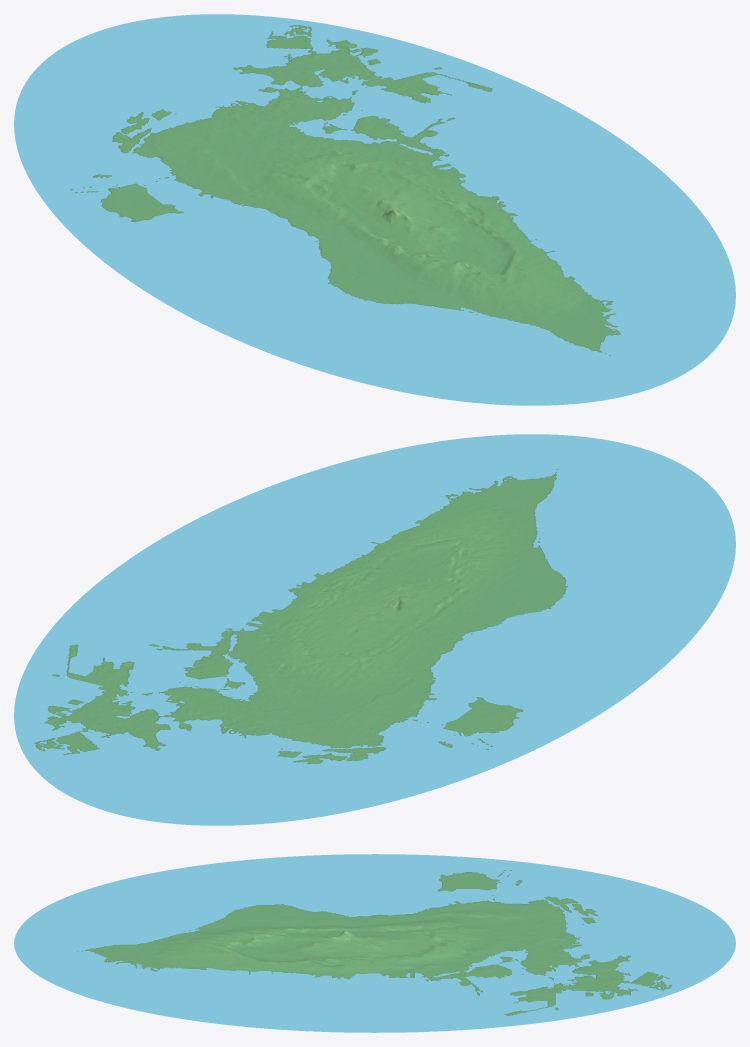
The model's file is BHR-terrain.glb.
3 views of the same model, one above another, from view 1: azimuth 30°, elevation 25°; view 2: azimuth 150°, elevation 25°; view 3: azimuth 270°, elevation 25° (orthographic). The views are drawn at different scales.
Visible parts, largest first — view 1: Relevo com hidrografia; view 2: Relevo com hidrografia; view 3: Relevo com hidrografia.
Boxes of the visible parts, x1=… form: Relevo com hidrografia: x1=14, y1=14, x2=735, y2=405; Relevo com hidrografia: x1=14, y1=434, x2=735, y2=825; Relevo com hidrografia: x1=14, y1=854, x2=735, y2=1032.
Bounding box in the file's own units: 1.14 × 0.0346 × 1.94.
2 materials, 1 textured.
